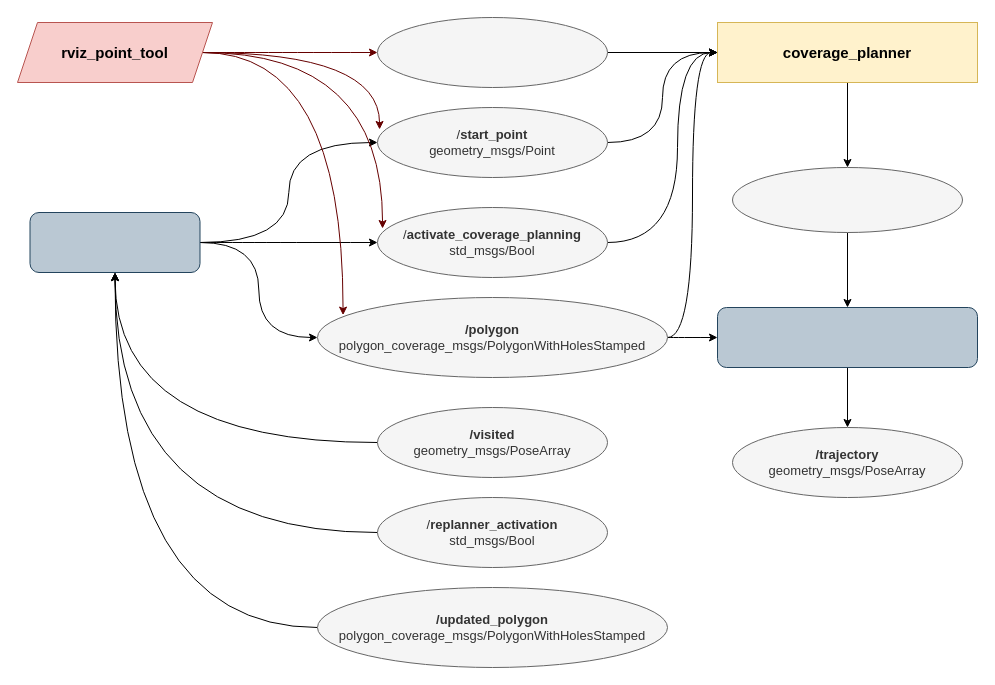
This 995x685 diagram has some shape labels left out. Each missing label, with the box of its shape:
/goal_point geometry_msgs/Point: (376, 16, 608, 88)
/waypoint_list geometry_msgs/PoseArray: (732, 166, 962, 232)
replanner: (29, 212, 200, 272)
smooth_trajectory_generator: (716, 306, 978, 368)
